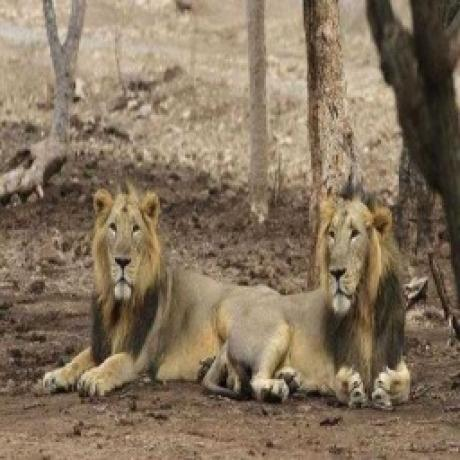Lion: (40, 183, 276, 404), (223, 195, 412, 411)
